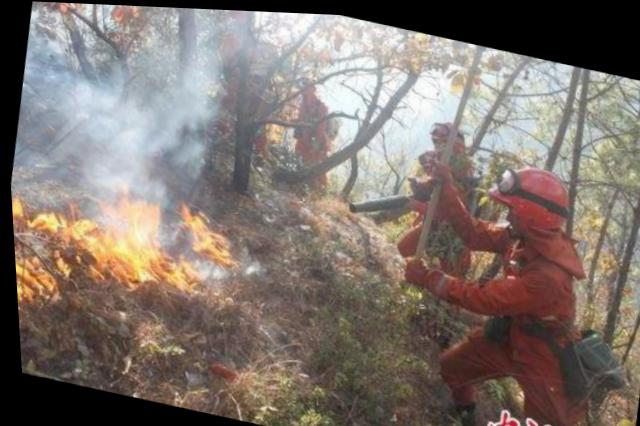fire: (8, 169, 237, 353)
